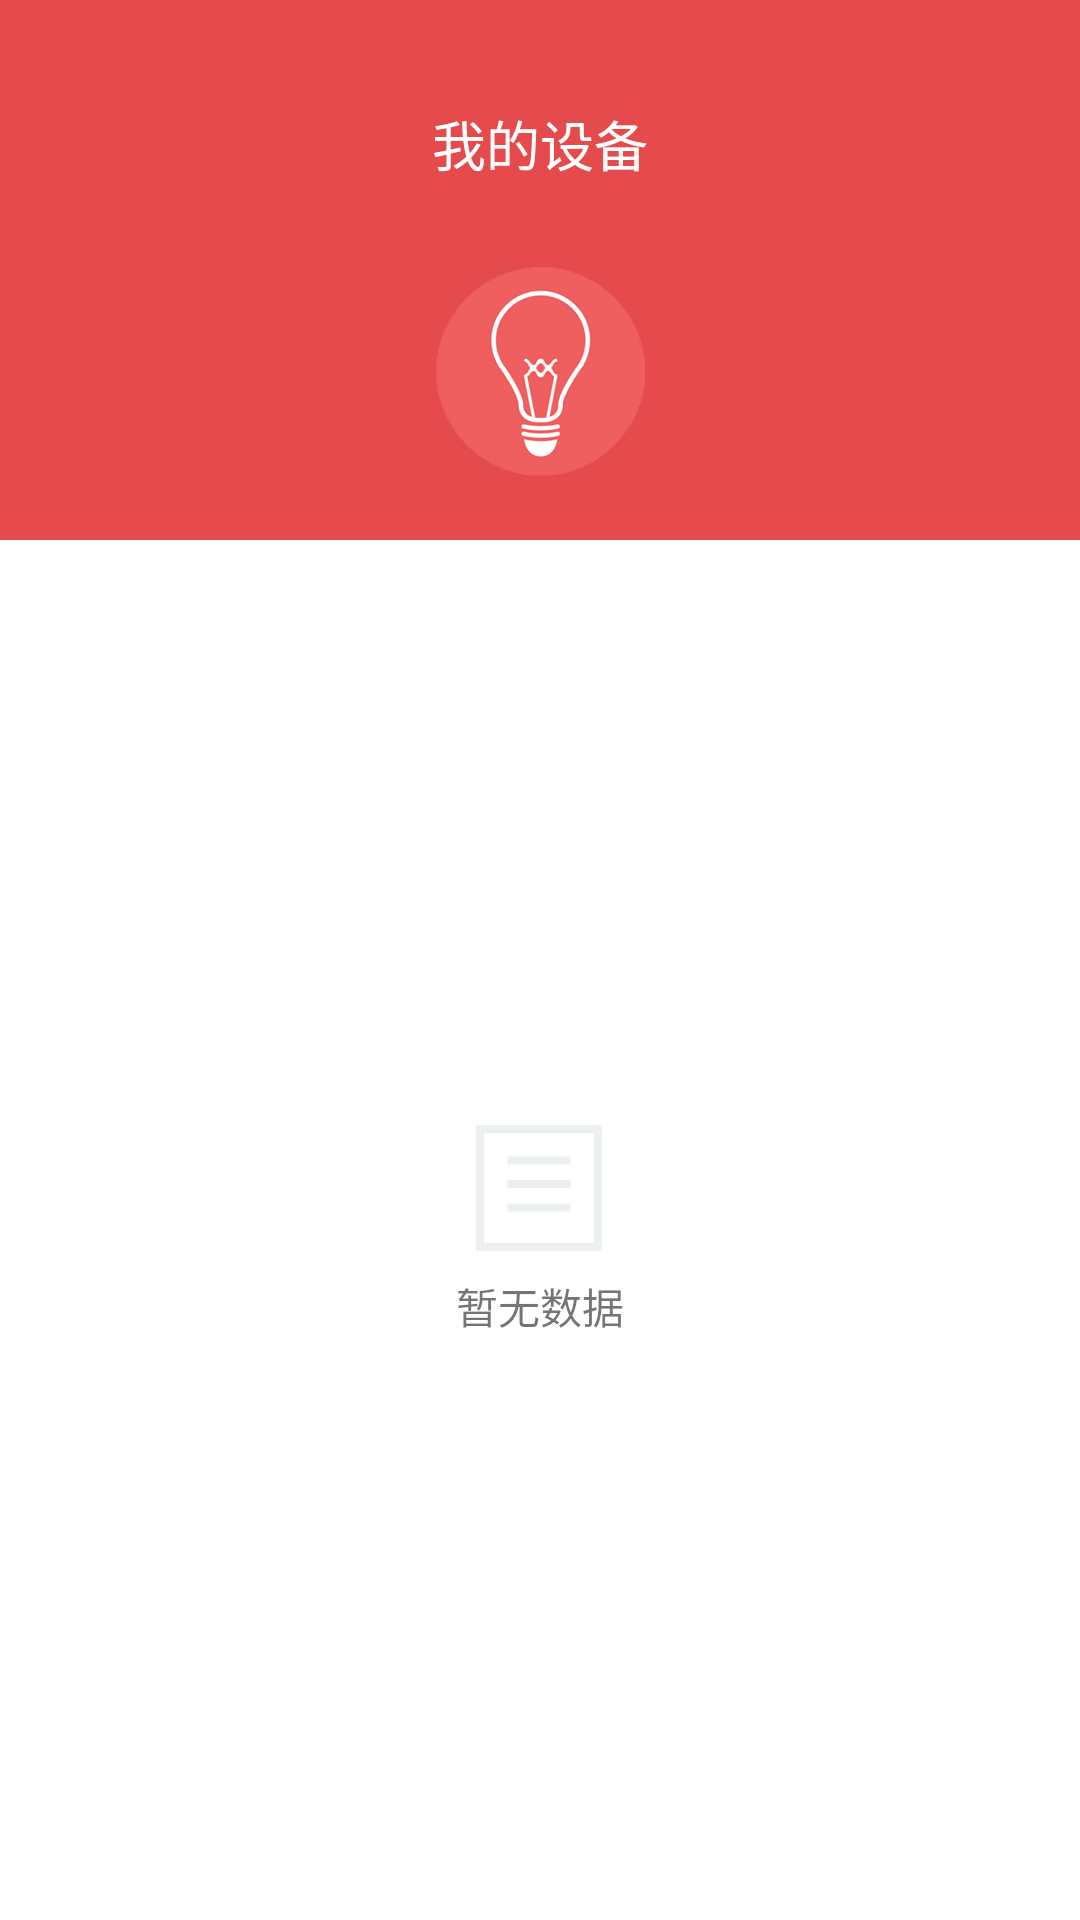

Locate icon controls on the screen. Image size 1080px x 1920px, boxes as (x1, y1, x2, y2).
lamp: (436, 267, 645, 476)
